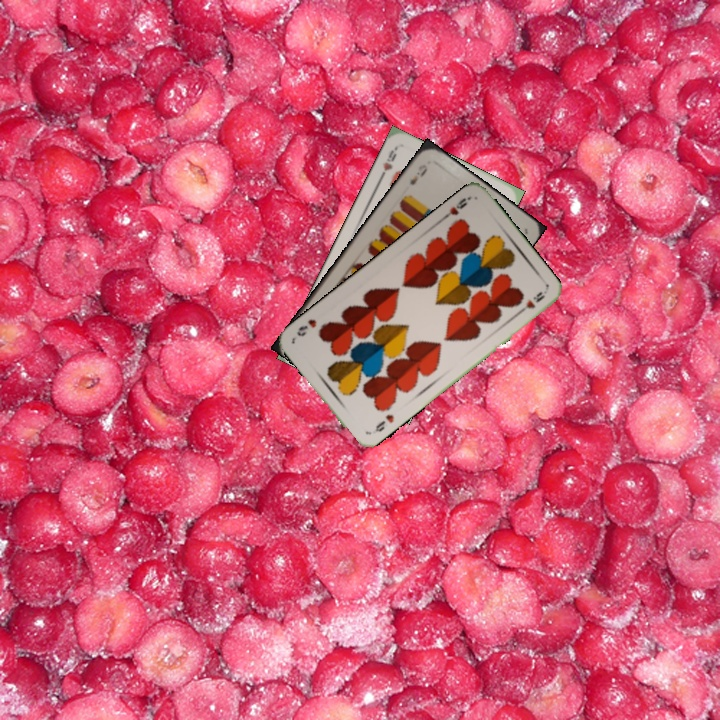E9: (405, 160, 430, 188)
H9: (438, 193, 473, 222), (376, 144, 400, 182), (371, 410, 396, 435)
